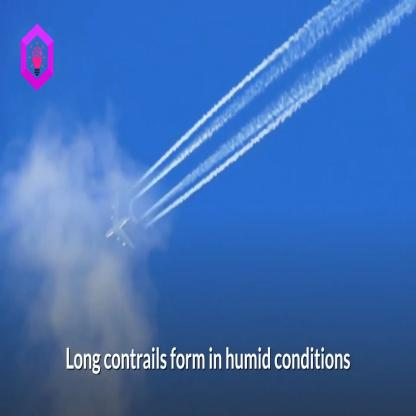plane: (103, 188, 144, 253)
